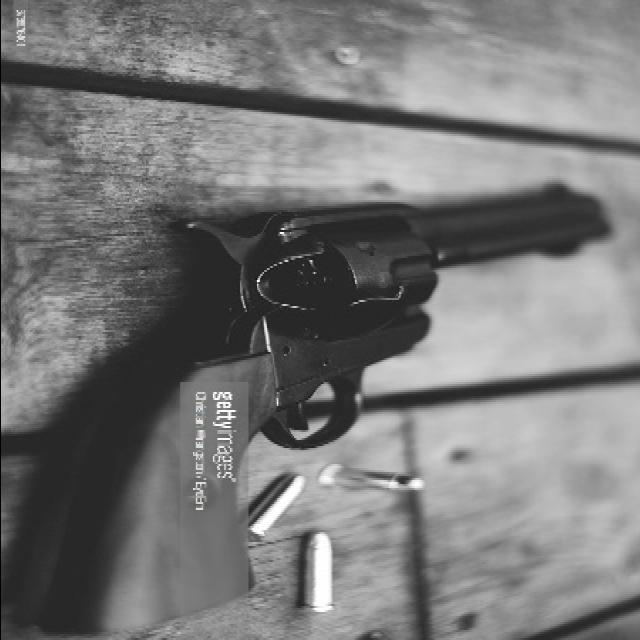handgun: (38, 179, 621, 639)
